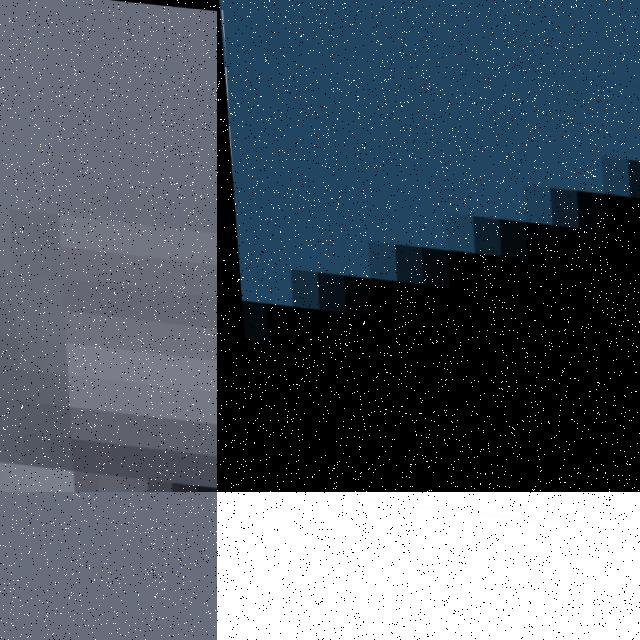0: (0, 0, 217, 492)
drone: (217, 0, 640, 492), (217, 492, 640, 640)
